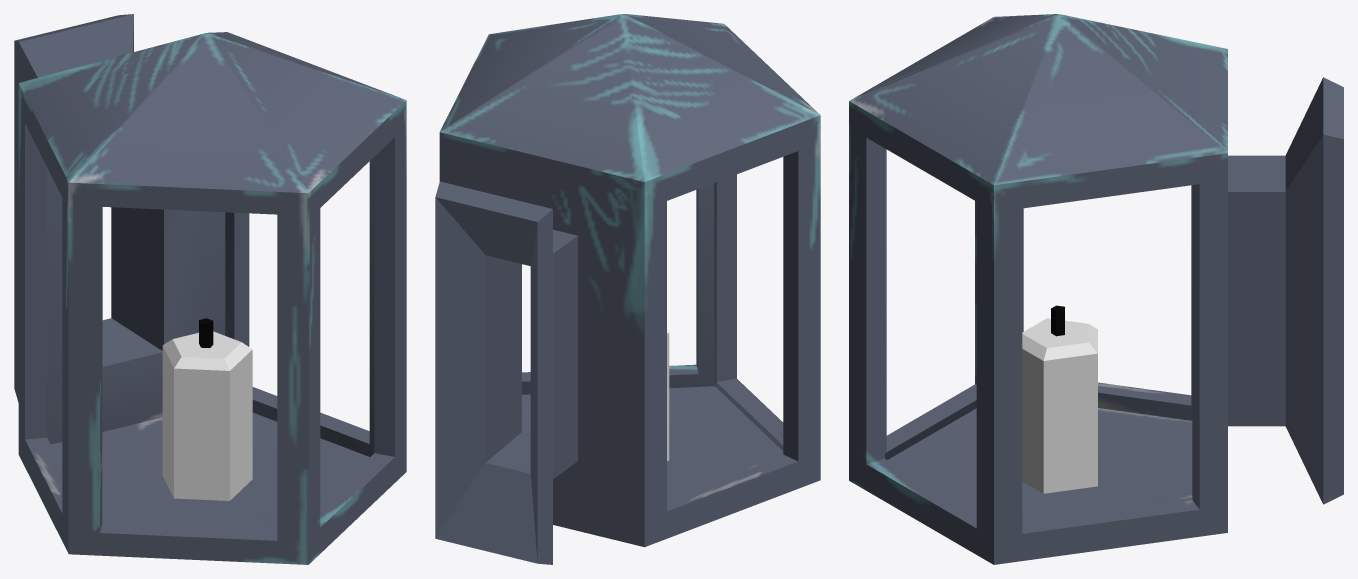
The model's file is NewLantern.fbx.
3 views of the same model, side by side, from view 1: azimuth 30°, elevation 25°; view 2: azimuth 150°, elevation 25°; view 3: azimuth 270°, elevation 25° (orthographic). The views are drawn at different scales.
Visible parts, largest first — view 1: Cylinder; view 2: Cylinder; view 3: Cylinder.
Part boxes in pixels (x1=…): Cylinder: x1=14, y1=14, x2=406, y2=564; Cylinder: x1=435, y1=14, x2=820, y2=564; Cylinder: x1=849, y1=14, x2=1343, y2=564.
Bounding box in the file's own units: 33.18 × 41.19 × 48.98.
Materials: 3 (1 with a texture image).
